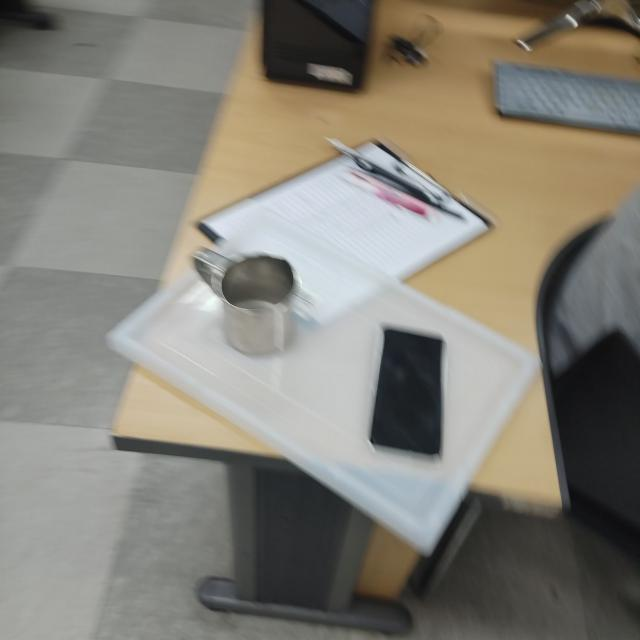cup: (189, 242, 298, 361)
phone: (366, 322, 449, 465)
